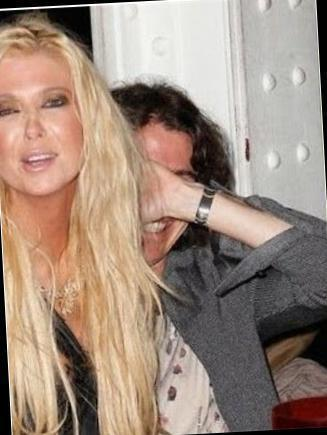Drunk: (0, 54, 85, 192)
